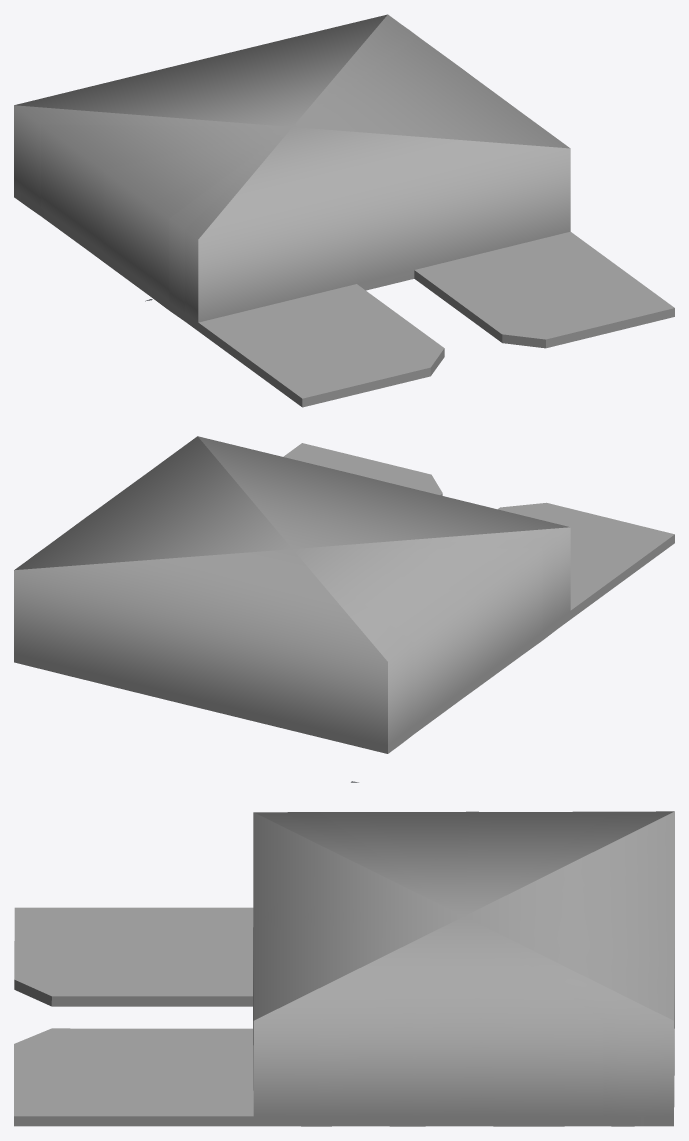
File: Ceiling.fbx
The picture shows the model from 3 angles, top to bottom: view 1: azimuth 30°, elevation 25°; view 2: azimuth 150°, elevation 25°; view 3: azimuth 270°, elevation 25°; orthographic projection. The views are drawn at different scales.
Parts seen in each view (by area): view 1: polySurface1; view 2: polySurface1; view 3: polySurface1.
Boxes of the visible parts, <box> form: polySurface1: <box>14,14,674,407</box>; polySurface1: <box>14,436,674,753</box>; polySurface1: <box>14,811,674,1126</box>.
Bounding box in the file's own units: 18.15 × 8.27 × 24.2.
2 materials, 1 textured.
